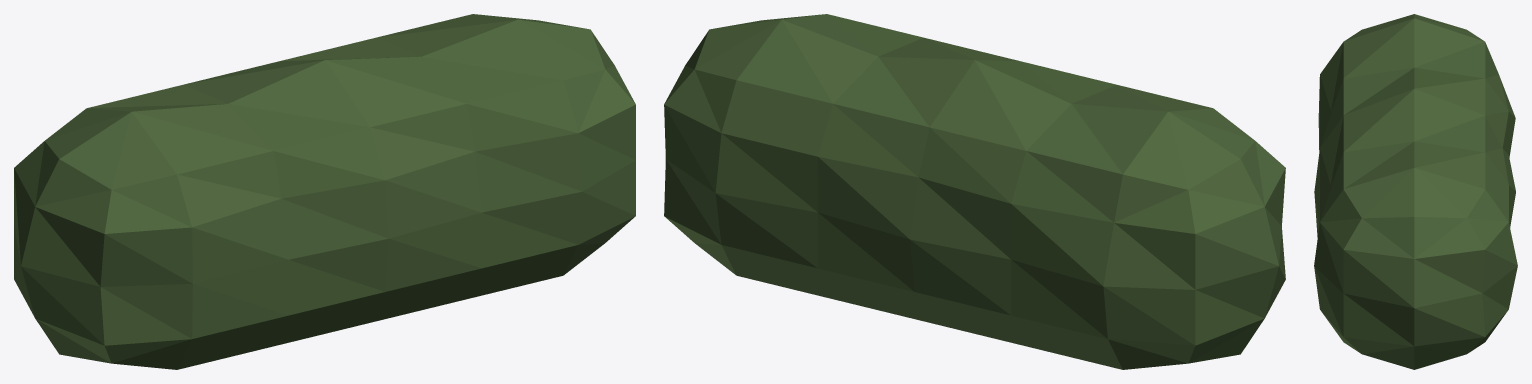
File: bush_1.fbx
3 views of the same model, side by side, from view 1: azimuth 30°, elevation 25°; view 2: azimuth 150°, elevation 25°; view 3: azimuth 270°, elevation 25° (orthographic). The views are drawn at different scales.
Visible parts, largest first — view 1: bush; view 2: bush; view 3: bush.
Part boxes in pixels (box(x1,y1,x2,y2)): bush: box(14, 14, 635, 369); bush: box(664, 14, 1285, 369); bush: box(1314, 14, 1517, 369).
Bounding box in the file's own units: 16.47 × 6.3 × 6.1.
